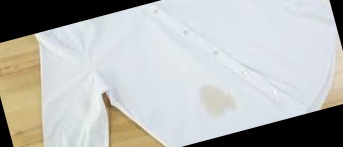coffee: (194, 78, 238, 120)
